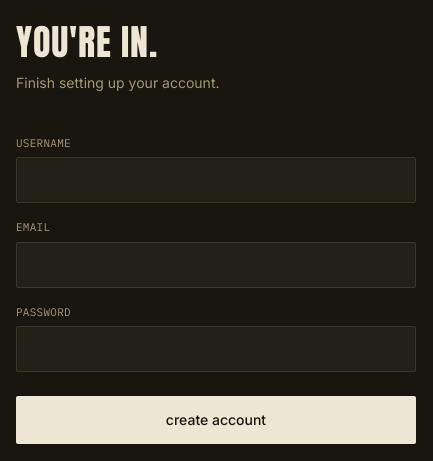
Test: RegisterForm mid-flow invite invalidation › shows a distinct expired message rather than the generic invalid-invite copy
Type "newuser" into the field labelled "username" at [216, 180], box [16,157,416,203]
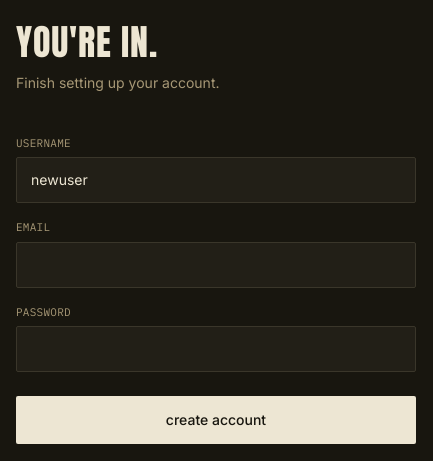
Type "new@example.com" into the field labelled "email" at [216, 265], box [16,242,416,288]
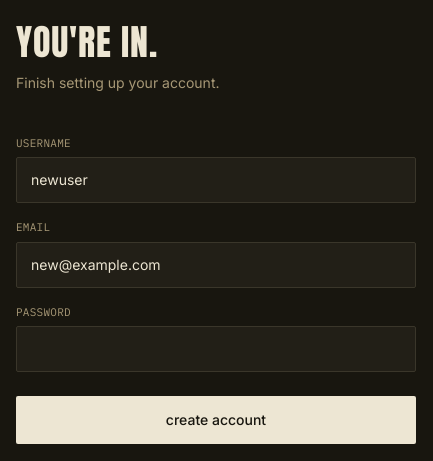
Type "hunter22" into the password field labelled "password" at [216, 349], box [16,326,416,372]
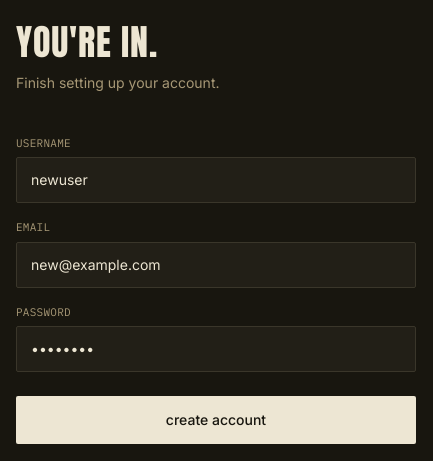
Click the button "create account" at [216, 420], box [16,396,416,444]
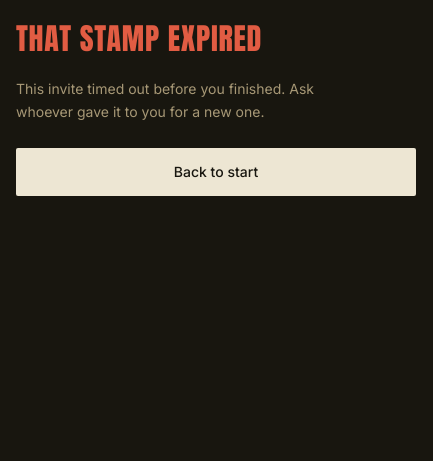
Expected: the heading "THAT STAMP EXPIRED" is shown, [16,16,262,61]
